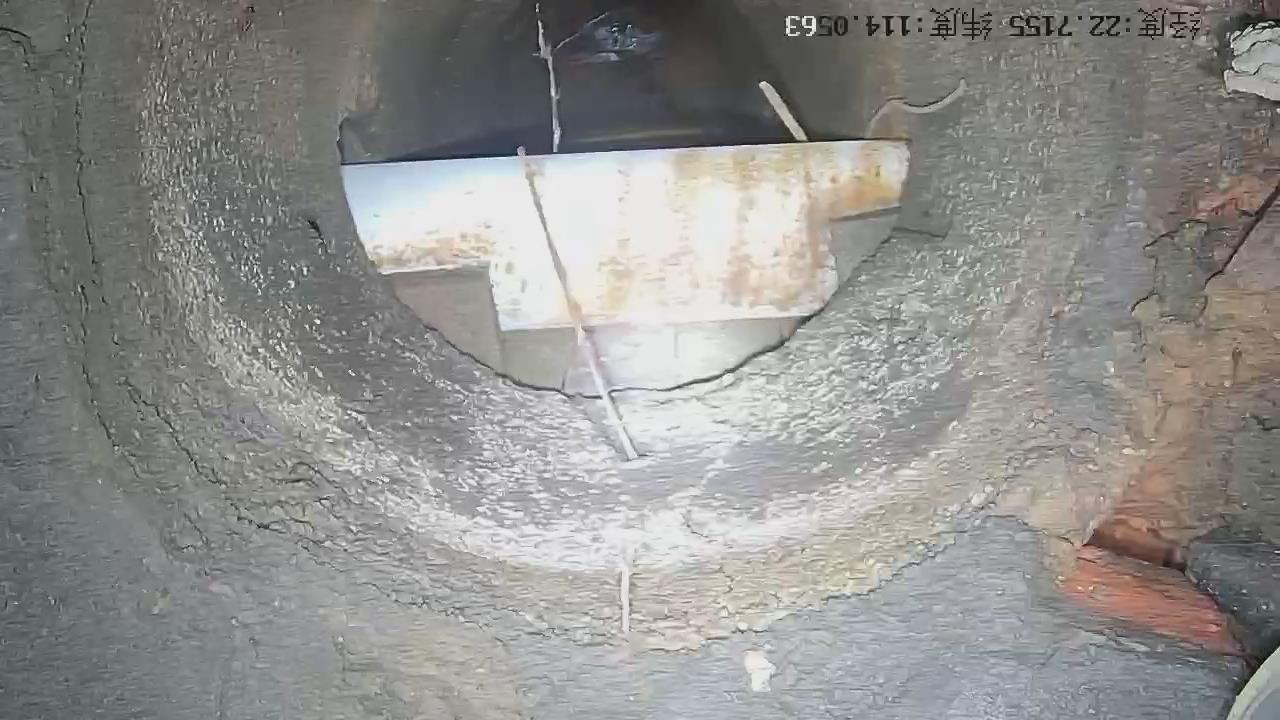YWCR: (341, 140, 908, 330)
